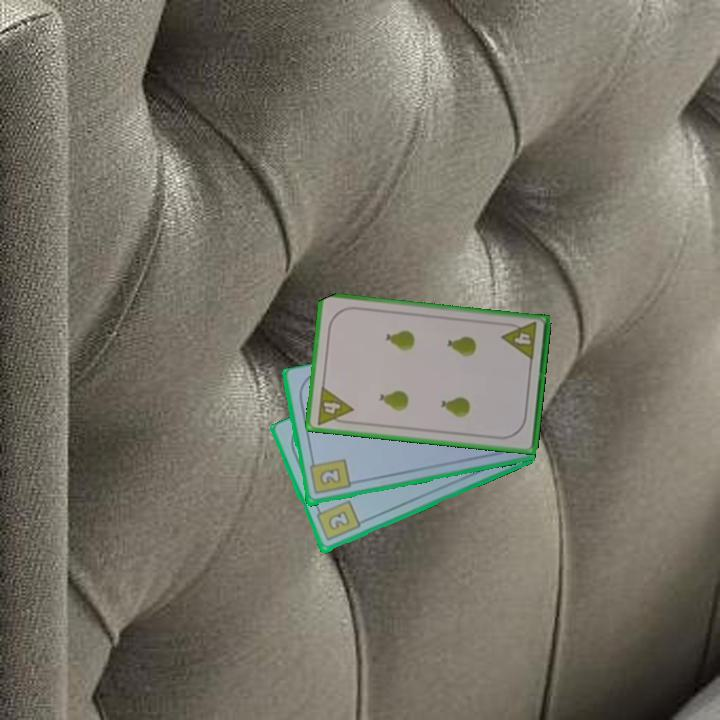2b: (313, 497, 363, 544), (306, 455, 353, 498)
4p: (313, 383, 356, 428), (499, 319, 540, 363)
